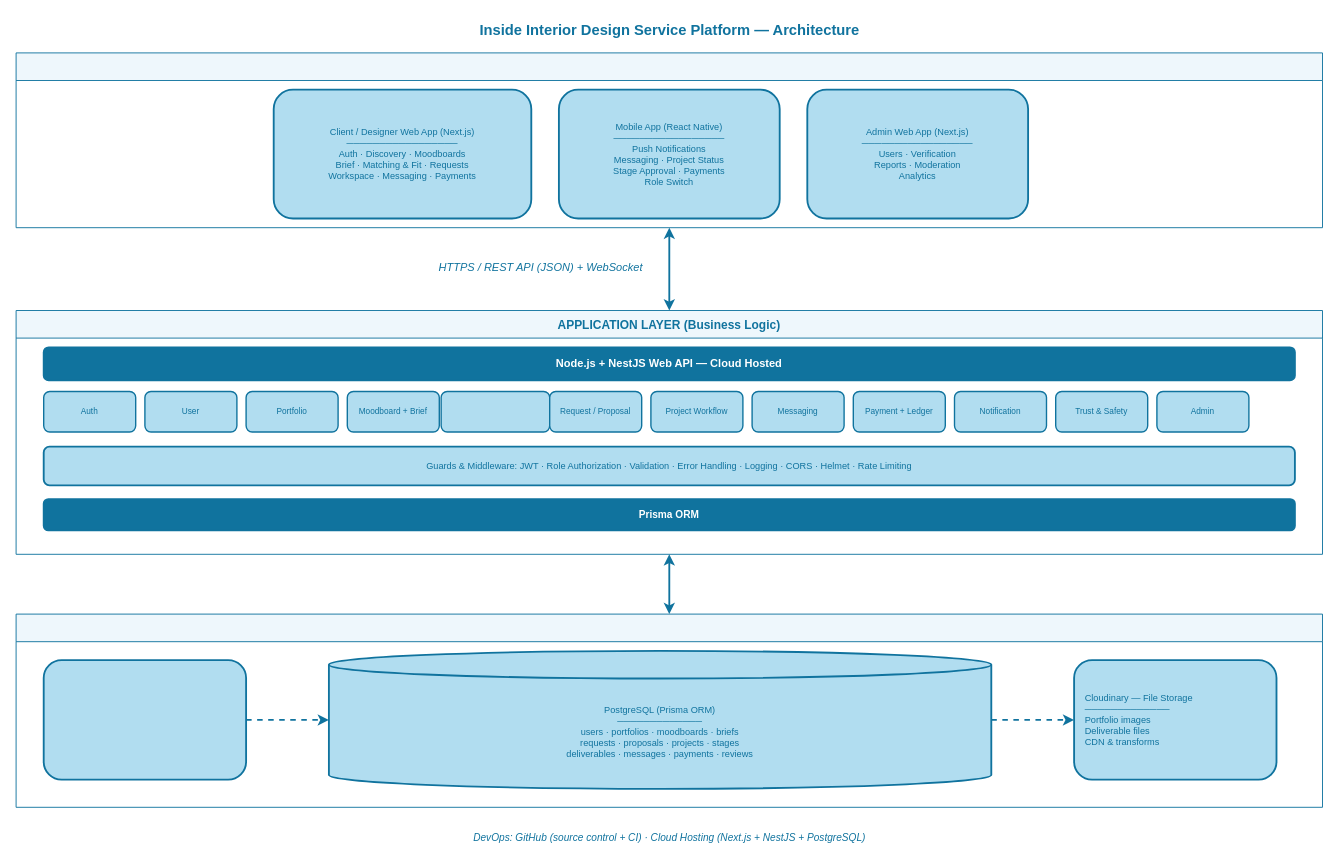
Image size: 1339x859. Some labels were removed from this diagram. The box of each missing label's shape, as (x1, y1, x2, y2) in pixels:
DATA LAYER (Persistence): (15, 613, 1322, 807)
External Services ───────────── Stripe (Payments) Email API Expo Push: (42, 659, 247, 780)
Matching & Fit Scoring: (440, 390, 550, 432)
USER LAYER (Presentation): (15, 52, 1322, 228)
